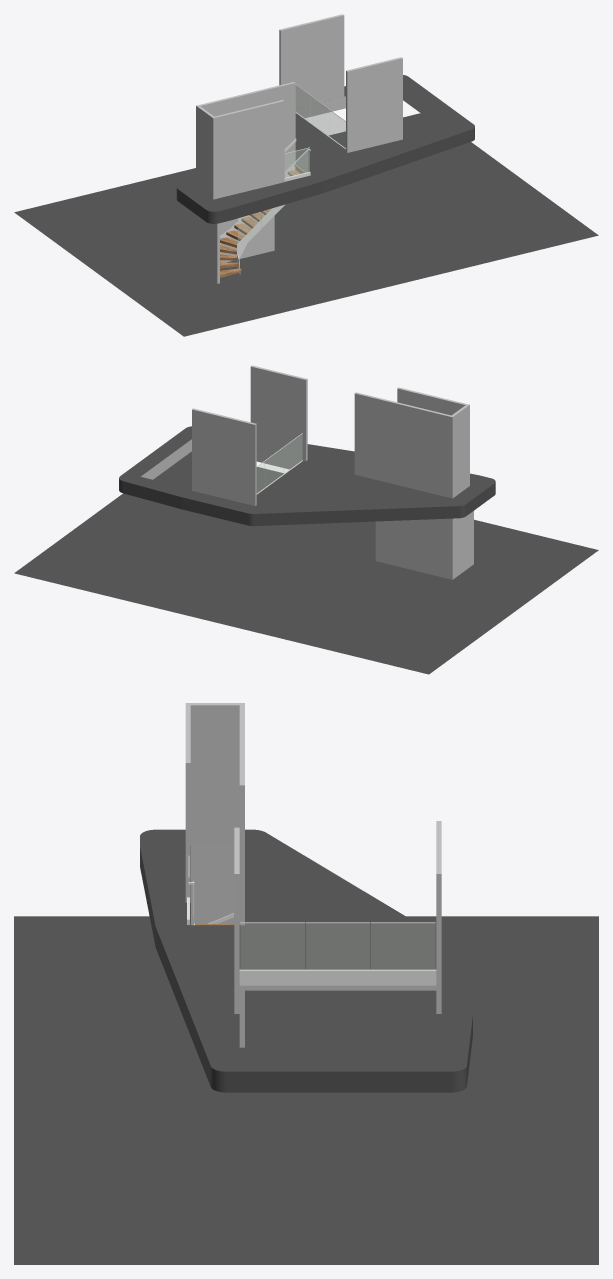
The picture shows the model from 3 angles, top to bottom: view 1: azimuth 30°, elevation 25°; view 2: azimuth 150°, elevation 25°; view 3: azimuth 270°, elevation 25°; orthographic projection. The views are drawn at different scales.
Parts seen in each view (by area): view 1: _x0023_OBJECT3D1111, _x0023_BEGIN_WALL0_x002C_90_x002C_90_x002C_90_x002C_3, _x0023_BOTTOMRAIL1110_x002C_3, _x0023_BEGIN_WALL1111, _x0023_BEGIN_OPENING1111, _x0023_TREADcon_OakFJ1800.jpg1111, _x0023_STRING0_x002C_950_x002C_950_x002C_951, _x0023_HANDRAIL0_x002C_950_x002C_950_x002C_951; view 2: _x0023_OBJECT3D1111, _x0023_BEGIN_WALL0_x002C_90_x002C_90_x002C_90_x002C_3, _x0023_BEGIN_WALL1111, _x0023_BOTTOMRAIL1110_x002C_3, _x0023_BEGIN_OPENING1111; view 3: _x0023_OBJECT3D1111, _x0023_BEGIN_WALL0_x002C_90_x002C_90_x002C_90_x002C_3, _x0023_BOTTOMRAIL1110_x002C_3, _x0023_HANDRAIL0_x002C_950_x002C_950_x002C_951, _x0023_BEGIN_WALL1111, _x0023_BEGIN_OPENING1111.
Part boxes in pixels (x1,y1,x2,y2): _x0023_OBJECT3D1111: (14,75,598,336); _x0023_BEGIN_WALL0_x002C_90_x002C_90_x002C_90_x002C_3: (196,14,402,199); _x0023_BOTTOMRAIL1110_x002C_3: (238,86,345,251); _x0023_BEGIN_WALL1111: (196,208,274,283); _x0023_BEGIN_OPENING1111: (284,88,453,171); _x0023_TREADcon_OakFJ1800.jpg1111: (220,170,299,276); _x0023_STRING0_x002C_950_x002C_950_x002C_951: (237,204,285,274); _x0023_HANDRAIL0_x002C_950_x002C_950_x002C_951: (237,82,345,220); _x0023_OBJECT3D1111: (14,426,598,674); _x0023_BEGIN_WALL0_x002C_90_x002C_90_x002C_90_x002C_3: (192,365,469,505); _x0023_BEGIN_WALL1111: (375,511,473,579); _x0023_BOTTOMRAIL1110_x002C_3: (257,434,302,493); _x0023_BEGIN_OPENING1111: (141,439,301,479); _x0023_OBJECT3D1111: (14,829,598,1264); _x0023_BEGIN_WALL0_x002C_90_x002C_90_x002C_90_x002C_3: (185,703,441,1013); _x0023_BOTTOMRAIL1110_x002C_3: (193,894,435,969); _x0023_HANDRAIL0_x002C_950_x002C_950_x002C_951: (187,856,436,985); _x0023_BEGIN_WALL1111: (191,866,244,1047); _x0023_BEGIN_OPENING1111: (191,845,436,990).
Bounding box in the file's own units: 15.71 × 5.88 × 11.15.
11 materials, 2 textured.
